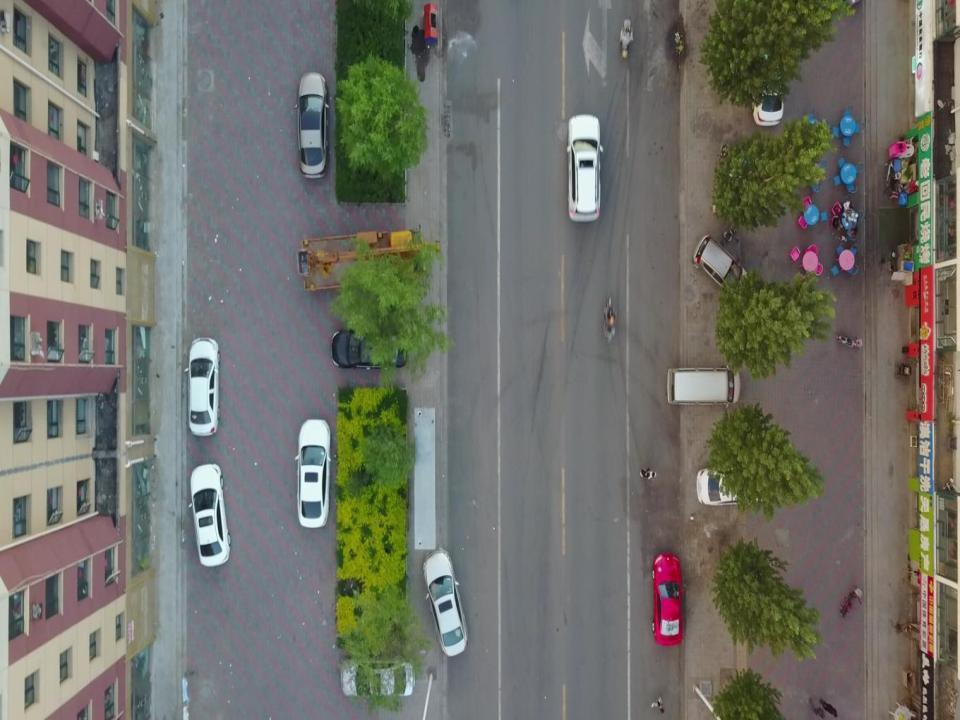car: (423, 551, 471, 656), (190, 463, 233, 565), (295, 70, 335, 178), (566, 112, 602, 222), (295, 419, 330, 528), (694, 236, 750, 298), (330, 328, 408, 370), (186, 338, 218, 436), (650, 552, 682, 650), (697, 467, 766, 507), (340, 659, 412, 695), (751, 49, 784, 125)
truck: (299, 229, 427, 294)
van: (666, 366, 740, 407)
